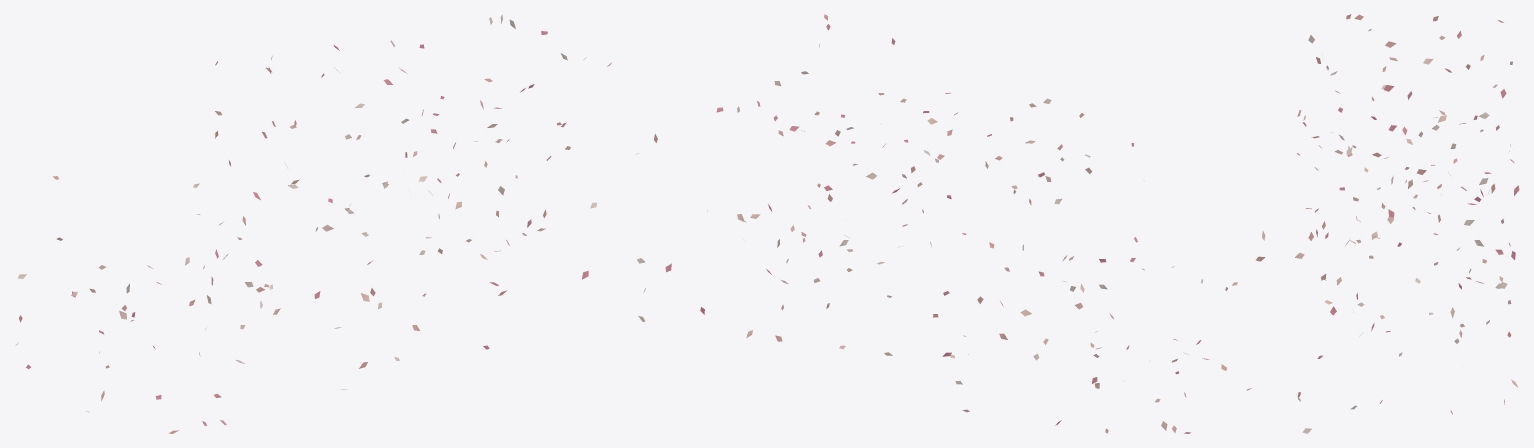
Rendered from petals_bank_v11.glb.
3 views of the same model, side by side, from view 1: azimuth 30°, elevation 25°; view 2: azimuth 150°, elevation 25°; view 3: azimuth 270°, elevation 25° (orthographic). The views are drawn at different scales.
Parts seen in each view (by area): view 1: petals; view 2: petals; view 3: petals.
Boxes of the visible parts, left/top/right/bottom form: petals: left=15, top=14, right=671, bottom=433; petals: left=700, top=14, right=1265, bottom=433; petals: left=1295, top=14, right=1519, bottom=433.
Bounding box in the file's own units: 0.0281 × 0.0143 × 0.0102.
